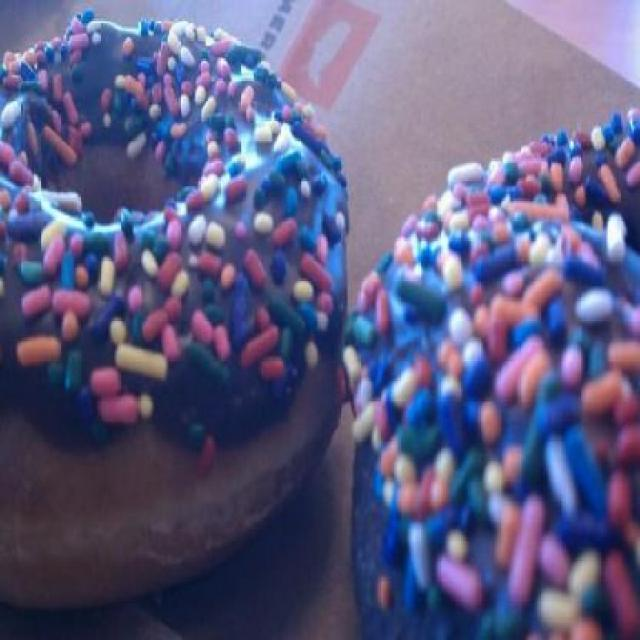Donuts: (0, 7, 639, 640)
